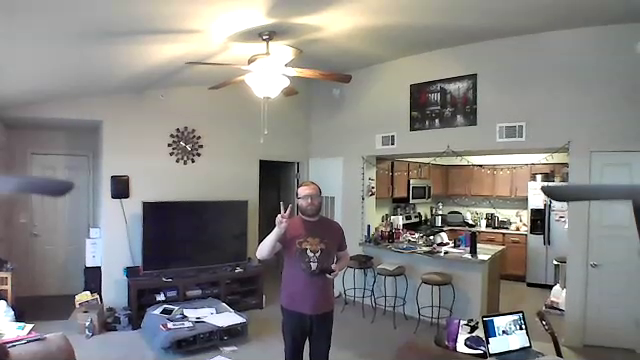peace: (270, 199, 302, 234)
